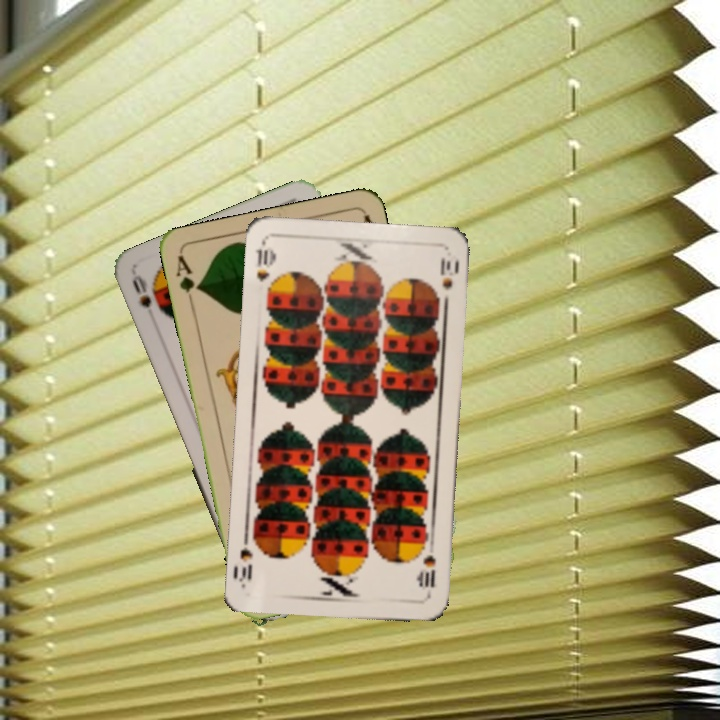GA: (172, 252, 203, 311)
S10: (416, 539, 439, 590), (251, 245, 277, 284)
SO: (128, 271, 154, 311)
